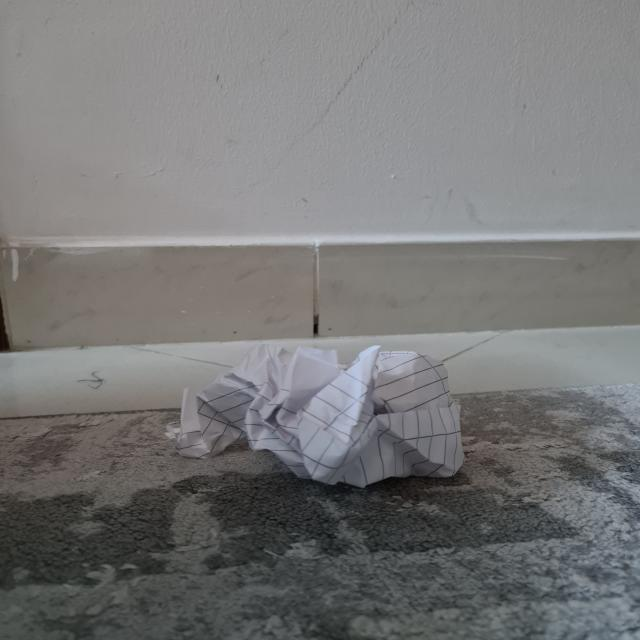Paper: (180, 342, 475, 485)
